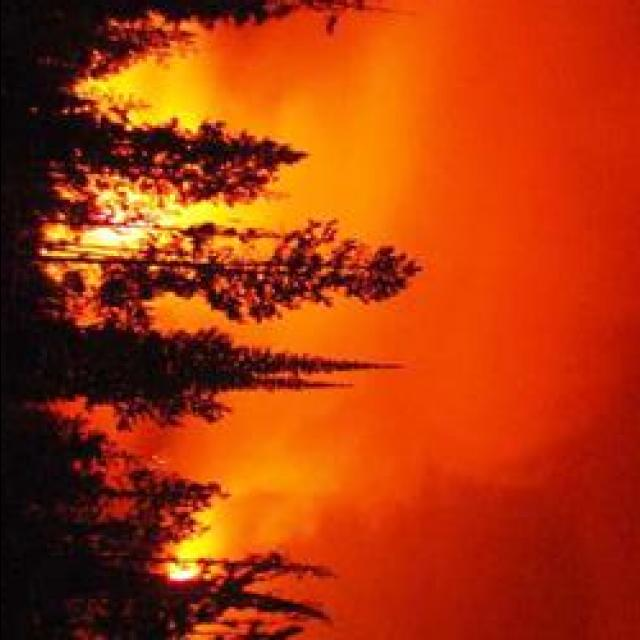fire: (82, 217, 152, 250)
smoke: (229, 398, 429, 516), (202, 30, 370, 124), (151, 65, 199, 116)
